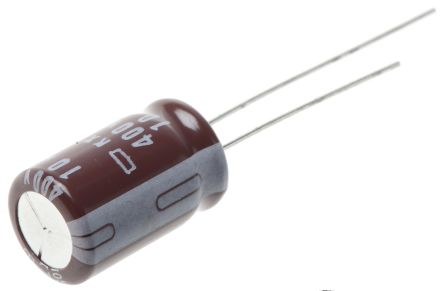capacitor: (7, 75, 256, 290)
